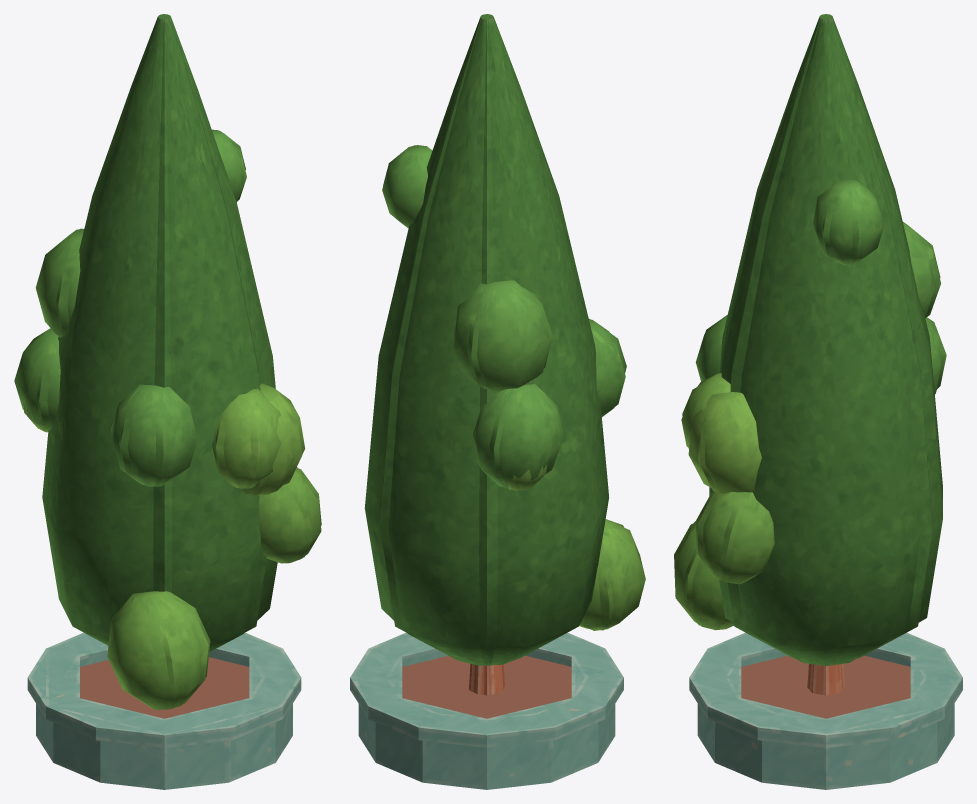
Rendered from cypress.bundle.fbx.
3 views of the same model, side by side, from view 1: azimuth 30°, elevation 25°; view 2: azimuth 150°, elevation 25°; view 3: azimuth 270°, elevation 25° (orthographic).
Parts seen in each view (by area): view 1: cypress, cypress_low, cypress_s03, cypress_s01, cypress_s06; view 2: cypress, cypress_low, cypress_s02, cypress_s06, cypress_s07; view 3: cypress, cypress_low, cypress_s03, cypress_s07, cypress_s01, cypress_s06.
Part boxes in pixels (x1,y1,x2,y2): cypress: (14, 14, 321, 789); cypress_low: (23, 14, 321, 734); cypress_s03: (70, 547, 278, 735); cypress_s01: (153, 295, 258, 570); cypress_s06: (156, 167, 242, 298); cypress: (350, 14, 645, 789); cypress_low: (369, 14, 625, 733); cypress_s02: (368, 574, 605, 705); cypress_s06: (411, 165, 494, 284); cypress_s07: (384, 322, 498, 578); cypress: (674, 14, 962, 789); cypress_low: (674, 14, 946, 734); cypress_s03: (711, 607, 890, 725); cypress_s07: (902, 296, 932, 592); cypress_s01: (730, 297, 752, 392); cypress_s06: (746, 226, 896, 310).
Size of the model in its own units: 4.9 by 14.2 by 5.17.
Materials: 1 (1 with a texture image).
